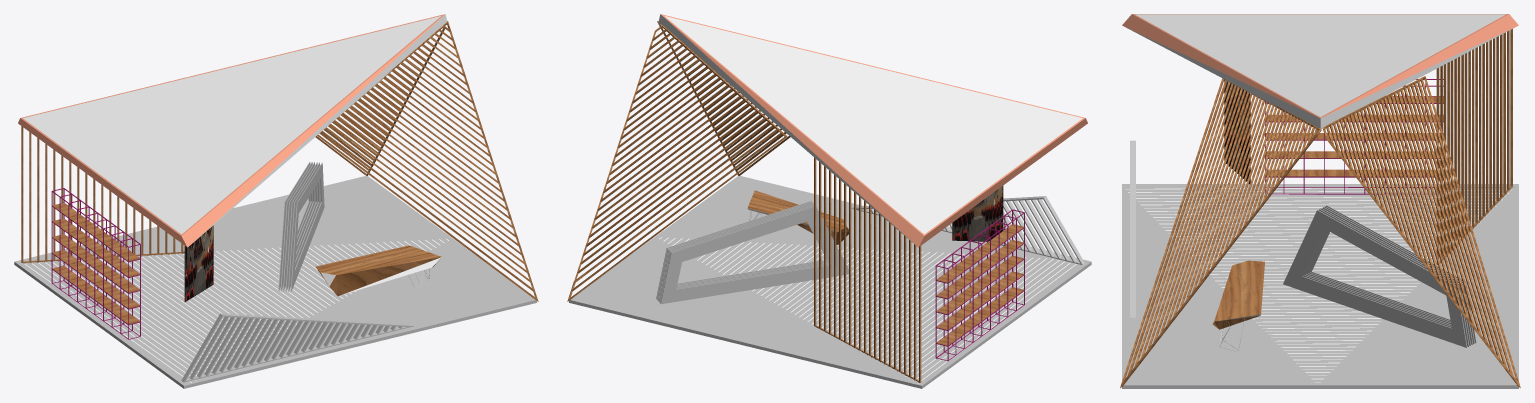
Rendered from 00_stand_03.fbx.
3 views of the same model, side by side, from view 1: azimuth 30°, elevation 25°; view 2: azimuth 150°, elevation 25°; view 3: azimuth 270°, elevation 25° (orthographic). The views are drawn at different scales.
Visible parts, largest first — view 1: Floor, Ceiling01, Sweep, Shape016, Shelf, Bookshelves01, Partition02, Table054, Ads; view 2: Floor, Ceiling01, Sweep, Partition02, Shelf, Bookshelves01, Shape016, Ads, Table054; view 3: Floor, Sweep, Ceiling01, Partition02, Shelf, Table054, Bookshelves01, Ads, Shape016.
Boxes of the visible parts, bbox=[...] form: Floor: bbox=[14, 176, 536, 388]; Ceiling01: bbox=[18, 14, 447, 247]; Sweep: bbox=[21, 21, 538, 301]; Shape016: bbox=[181, 313, 414, 382]; Shelf: bbox=[52, 203, 139, 324]; Bookshelves01: bbox=[51, 188, 140, 339]; Partition02: bbox=[278, 162, 324, 291]; Table054: bbox=[315, 245, 441, 296]; Ads: bbox=[184, 225, 213, 301]; Floor: bbox=[569, 176, 1091, 388]; Ceiling01: bbox=[658, 14, 1087, 247]; Sweep: bbox=[567, 21, 921, 382]; Partition02: bbox=[656, 201, 848, 304]; Shelf: bbox=[936, 224, 1023, 345]; Bookshelves01: bbox=[935, 209, 1024, 361]; Shape016: bbox=[851, 196, 1084, 264]; Ads: bbox=[952, 186, 1003, 241]; Table054: bbox=[747, 190, 848, 244]; Floor: bbox=[1122, 184, 1518, 388]; Sweep: bbox=[1120, 29, 1520, 388]; Ceiling01: bbox=[1122, 14, 1518, 128]; Partition02: bbox=[1283, 205, 1476, 347]; Shelf: bbox=[1265, 96, 1443, 176]; Table054: bbox=[1212, 260, 1264, 329]; Bookshelves01: bbox=[1265, 79, 1443, 194]; Ads: bbox=[1224, 79, 1250, 184]; Shape016: bbox=[1130, 140, 1135, 317].
Size of the model in its own units: 1204 by 742 by 1009.
